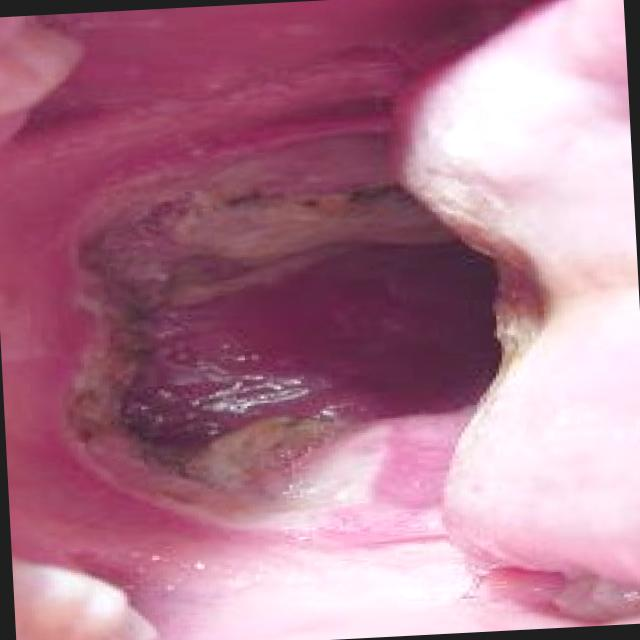pharyngitis: (138, 102, 466, 290), (148, 375, 392, 512)
